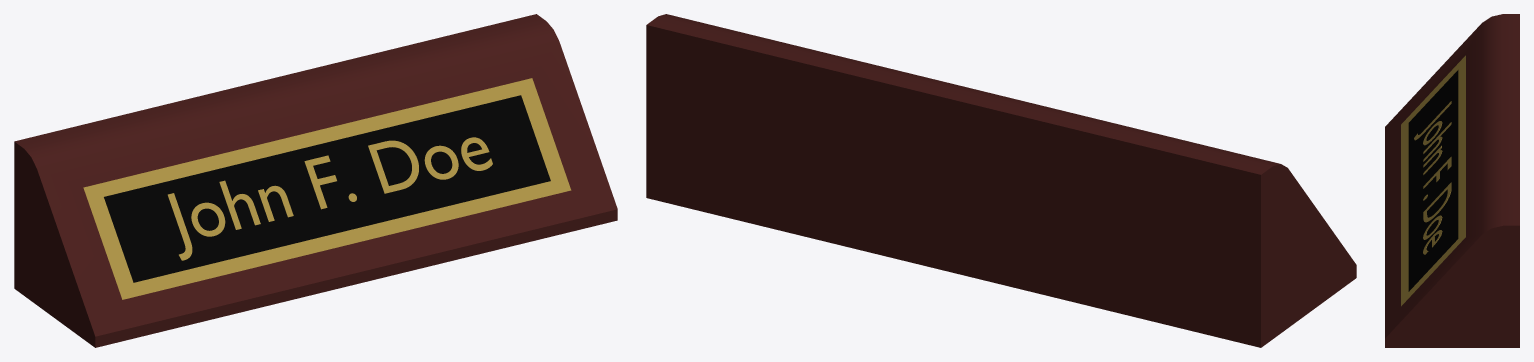
The model's file is deskNamePlaque.fbx.
3 views of the same model, side by side, from view 1: azimuth 30°, elevation 25°; view 2: azimuth 150°, elevation 25°; view 3: azimuth 270°, elevation 25° (orthographic). The views are drawn at different scales.
Parts seen in each view (by area): view 1: Cube.008, Text; view 2: Cube.008; view 3: Cube.008, Text.
Part boxes in pixels (left/top/right/bottom): Cube.008: left=14, top=14, right=617, bottom=347; Text: left=167, top=137, right=492, bottom=260; Cube.008: left=646, top=14, right=1356, bottom=347; Cube.008: left=1385, top=14, right=1519, bottom=347; Text: left=1414, top=101, right=1451, bottom=254.
Size of the model in its own units: 324 by 87.18 by 87.18.
